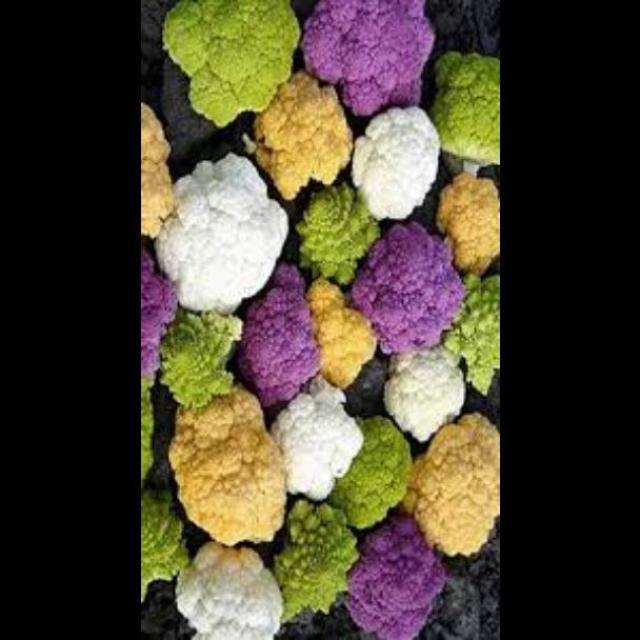cayliflower: (152, 145, 294, 322), (164, 372, 288, 548), (157, 0, 304, 134), (304, 0, 450, 122), (236, 68, 360, 199), (356, 218, 471, 352), (397, 418, 500, 555), (345, 511, 449, 638), (269, 496, 367, 630), (170, 538, 294, 639), (333, 406, 431, 530), (268, 381, 364, 501), (282, 172, 385, 280), (354, 110, 448, 228), (162, 300, 260, 406), (424, 39, 501, 170), (388, 338, 476, 447), (438, 264, 501, 412), (296, 275, 382, 382), (428, 168, 500, 276), (142, 100, 192, 247), (141, 479, 187, 614), (142, 252, 184, 390)
